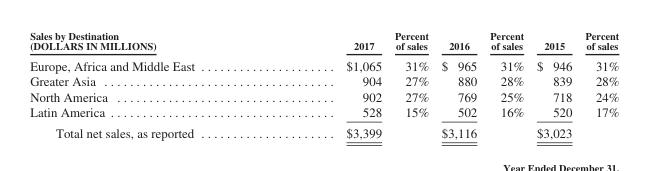table: (29, 29, 618, 139)
table column: (29, 29, 269, 139), (269, 29, 387, 139), (434, 29, 482, 139), (529, 29, 577, 139), (387, 29, 434, 139), (482, 29, 529, 139), (577, 29, 618, 139)
table column header: (29, 29, 618, 54)
table row: (29, 29, 618, 54), (29, 54, 618, 73), (29, 104, 618, 122), (29, 122, 618, 139), (29, 88, 618, 104), (29, 73, 618, 88)
